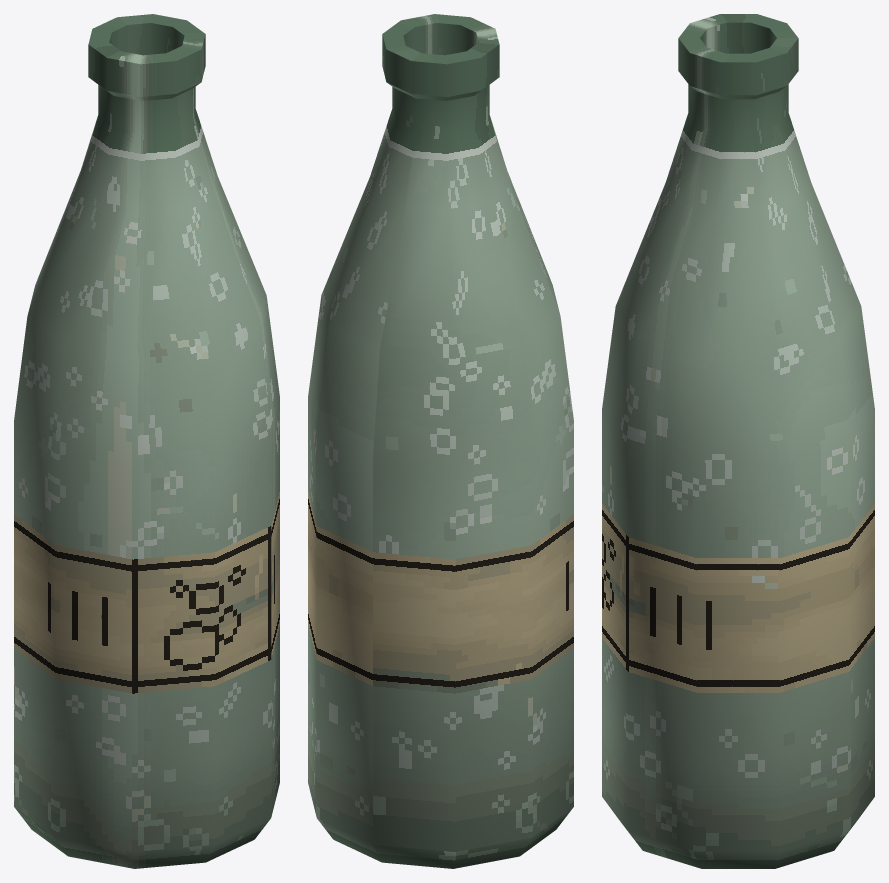
Rendered from HB_Bottle_Mixer.glb.
3 renders of one model, left to right at view 1: azimuth 30°, elevation 25°; view 2: azimuth 150°, elevation 25°; view 3: azimuth 270°, elevation 25°, orthographic.
Visible parts, largest first — view 1: HB_Bottle_Mixer; view 2: HB_Bottle_Mixer; view 3: HB_Bottle_Mixer.
Part boxes in pixels (bbox=[...]): HB_Bottle_Mixer: bbox=[14, 14, 279, 868]; HB_Bottle_Mixer: bbox=[308, 14, 573, 868]; HB_Bottle_Mixer: bbox=[602, 14, 874, 868].
Bounding box in the file's own units: 0.0571 × 0.19 × 0.06.
1 material, 1 textured.
